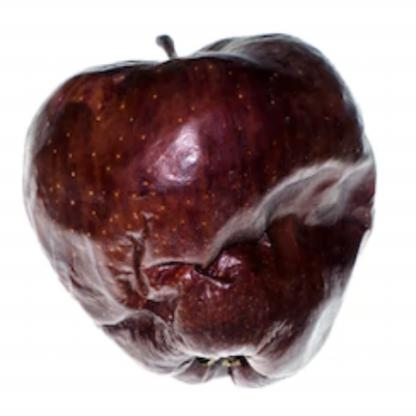Rotten Apple: (28, 35, 374, 384)
